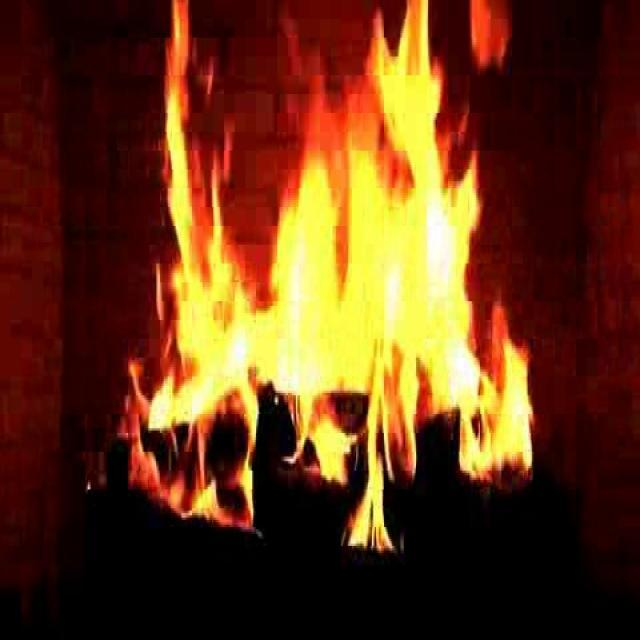Fire: (150, 34, 524, 500)
